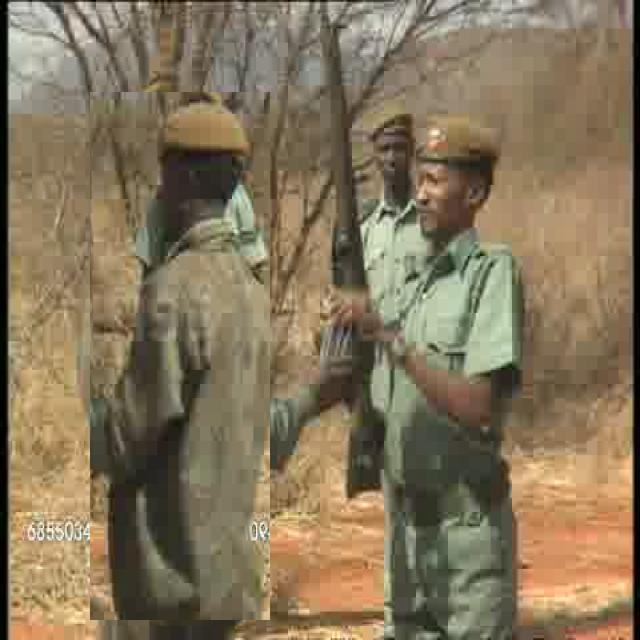poacher: (90, 92, 270, 620), (416, 116, 540, 562), (364, 103, 422, 199)
weapon: (308, 2, 384, 494)
